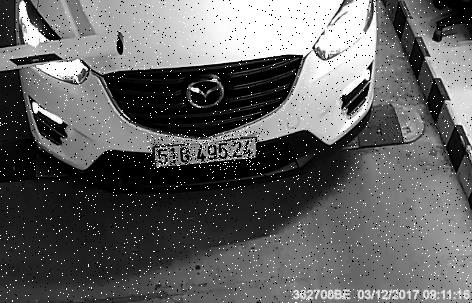License-plate: (149, 132, 262, 171)
